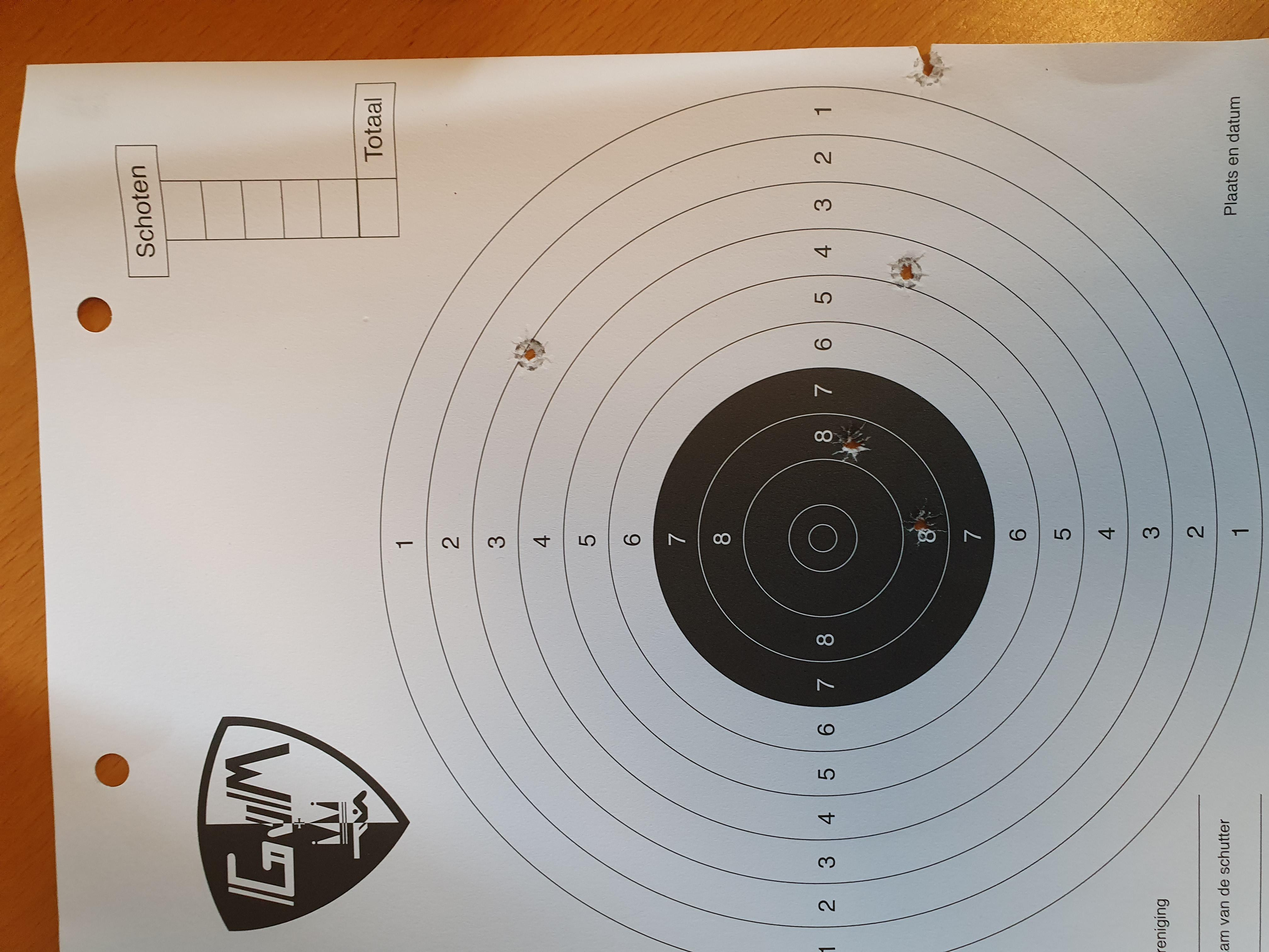hole: (1146, 679, 1208, 719), (649, 621, 712, 654), (541, 676, 599, 710), (770, 381, 825, 415), (879, 664, 934, 698)
